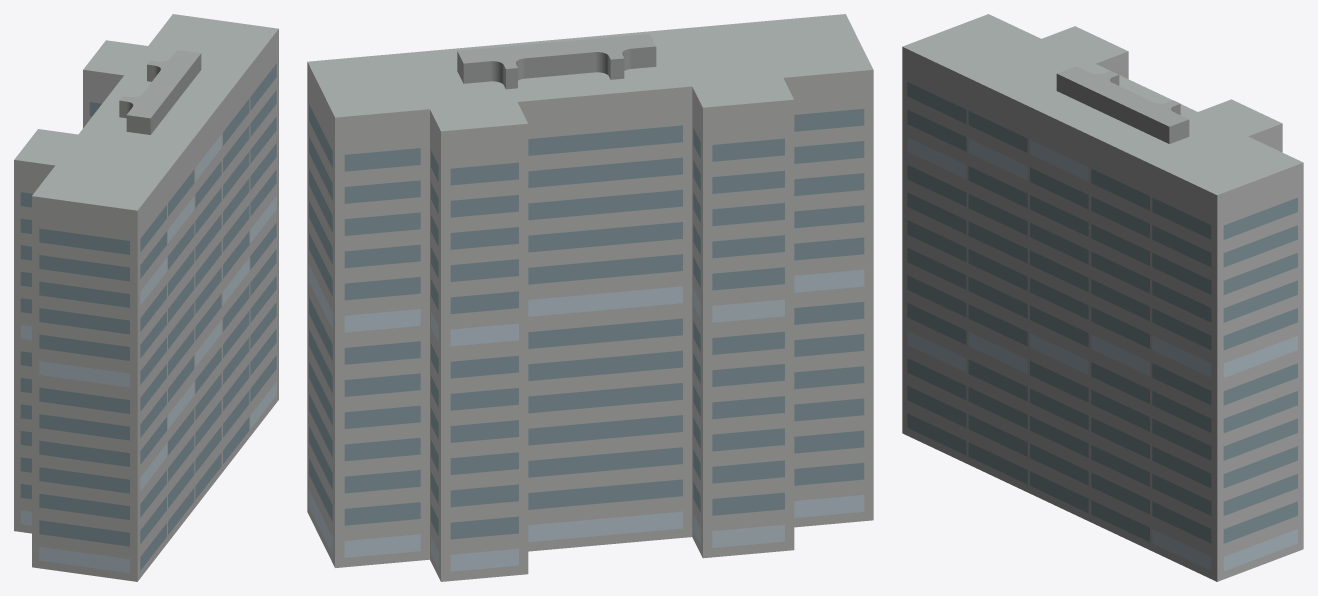
The model's file is fallback-gaepo-xi-presidence-423.glb.
The picture shows the model from 3 angles, left to right: view 1: azimuth 30°, elevation 25°; view 2: azimuth 150°, elevation 25°; view 3: azimuth 270°, elevation 25°; orthographic projection. The views are drawn at different scales.
Parts seen in each view (by area): view 1: fallback-gaepo-xi-presidence-423; view 2: fallback-gaepo-xi-presidence-423; view 3: fallback-gaepo-xi-presidence-423.
Boxes of the visible parts, bbox=[...] form: fallback-gaepo-xi-presidence-423: bbox=[14, 14, 278, 581]; fallback-gaepo-xi-presidence-423: bbox=[307, 14, 873, 581]; fallback-gaepo-xi-presidence-423: bbox=[902, 14, 1303, 581].
Size of the model in its own units: 42.94 by 44.62 by 40.18.
